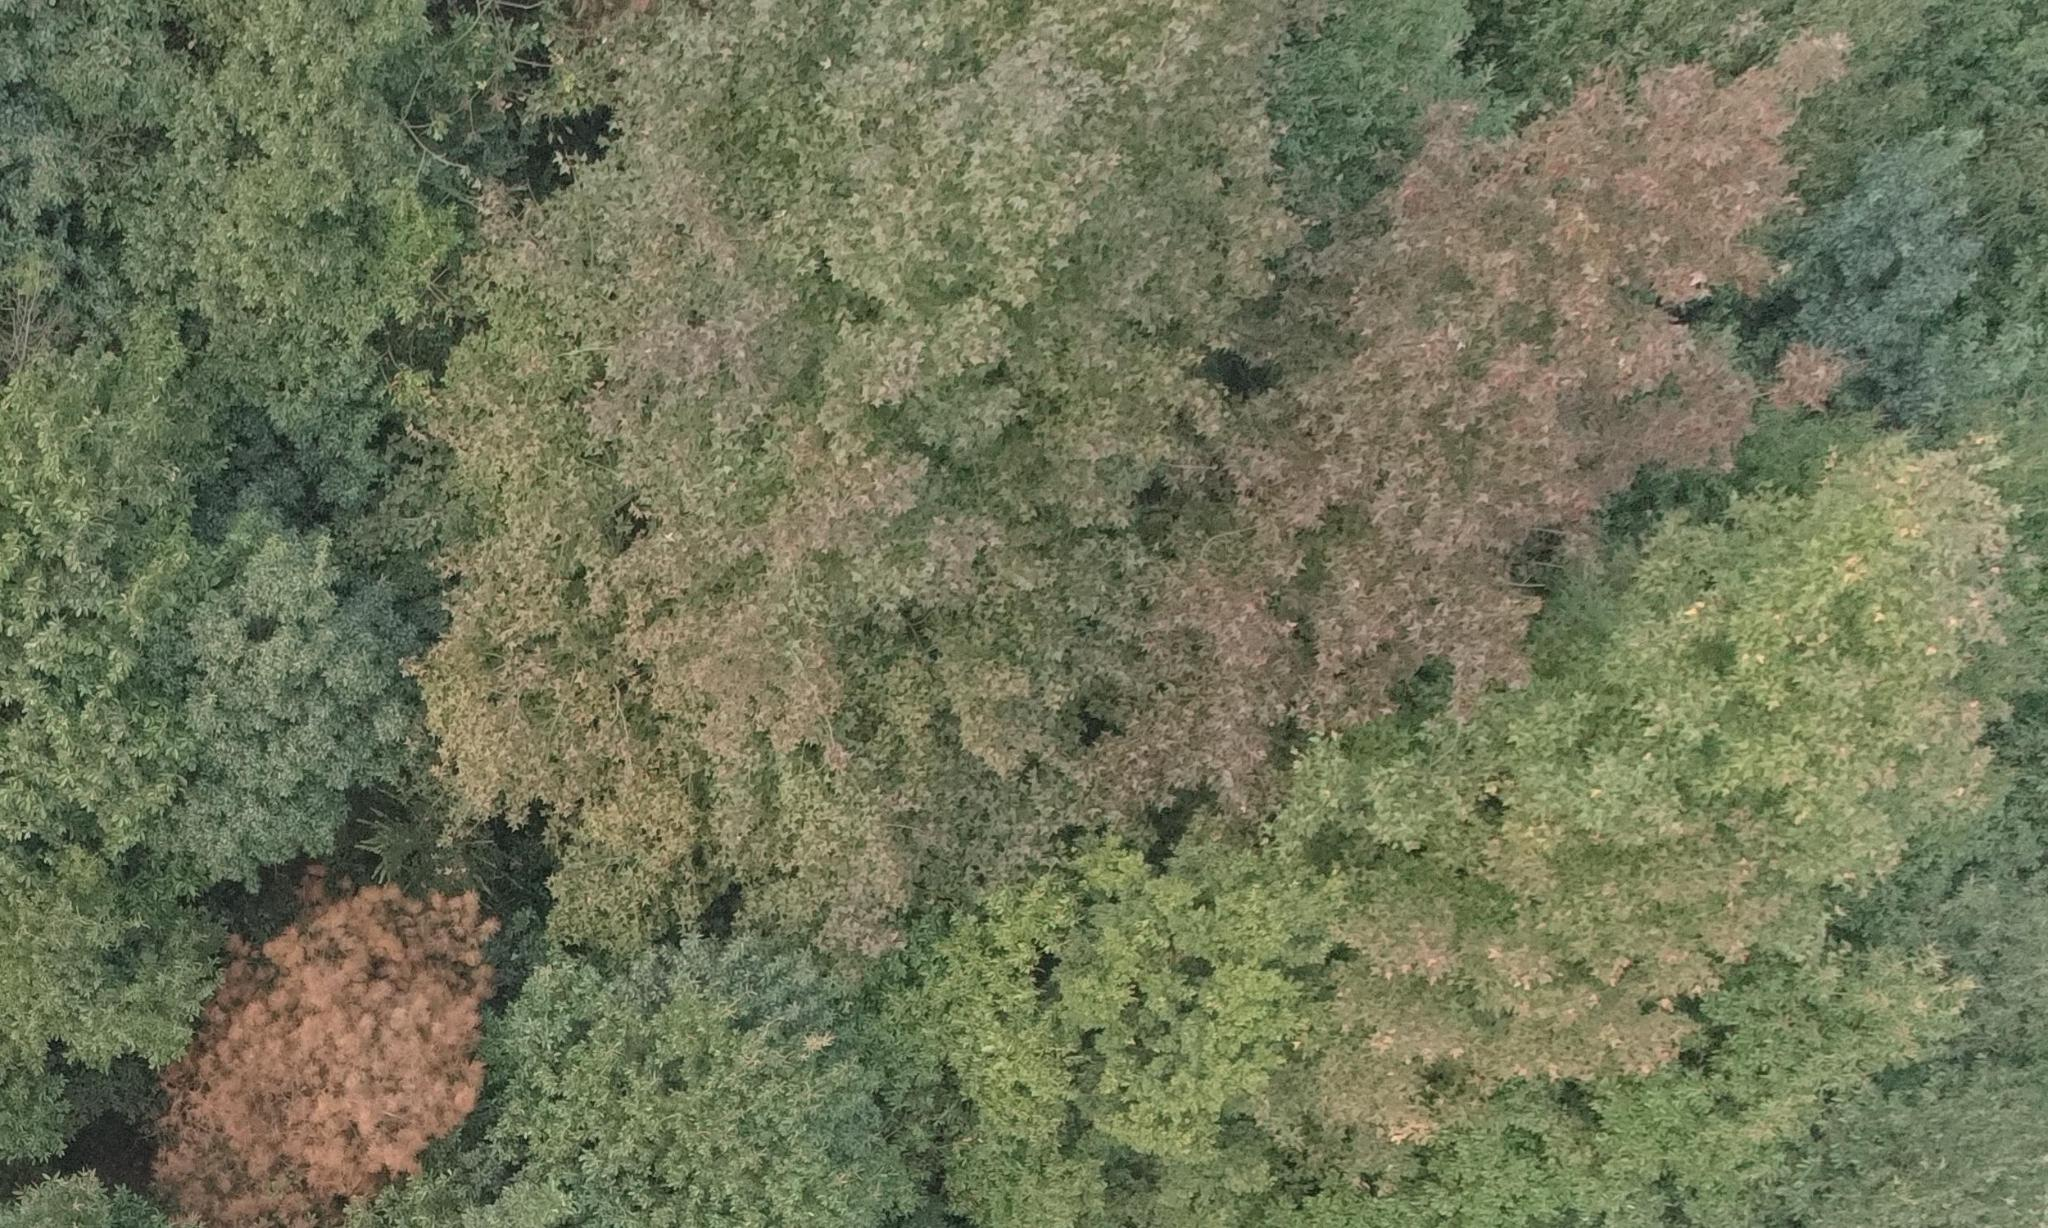heavy: (140, 864, 485, 1215)
